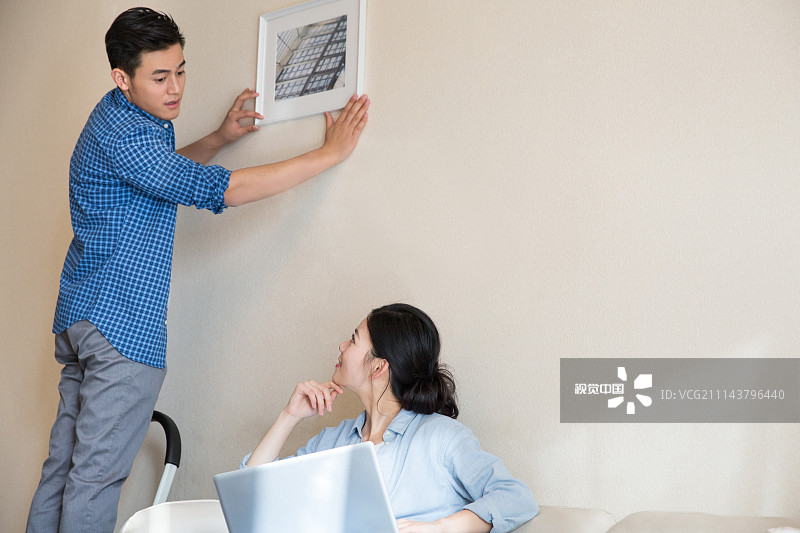no-phone: (320, 88, 376, 172), (272, 368, 345, 426), (218, 79, 270, 147)
